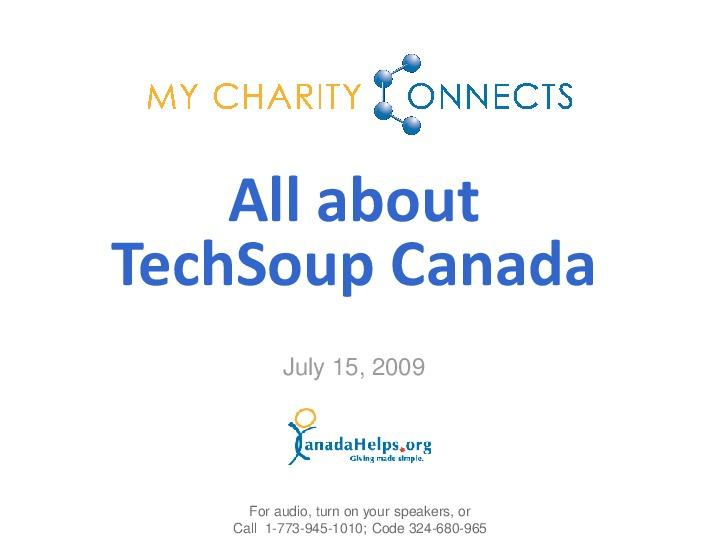subtitle: (66, 151, 641, 314), (195, 346, 520, 540)
title: (135, 64, 598, 126)
